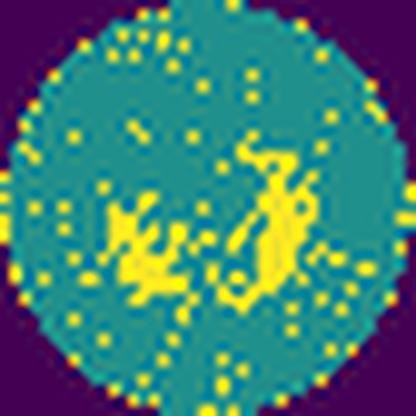Donut: (90, 122, 325, 325)
